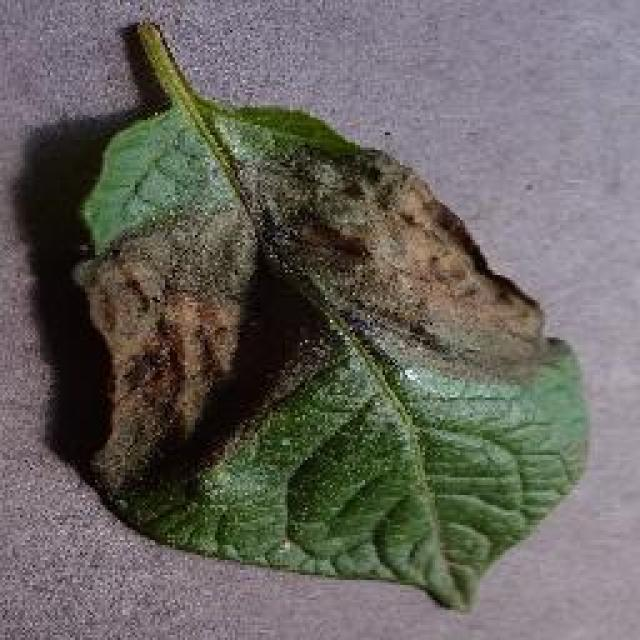Late_blight: (52, 118, 600, 532)
